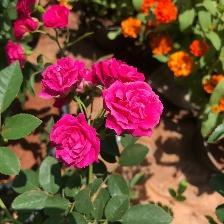rose: (102, 79, 166, 139), (52, 119, 97, 167), (39, 61, 91, 99)
